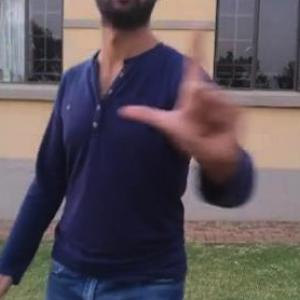land_hand: (115, 17, 242, 161)
